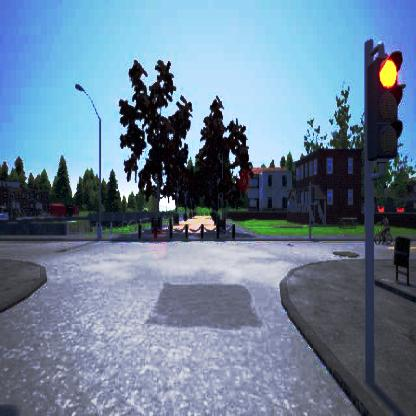bike: (373, 212, 393, 246)
